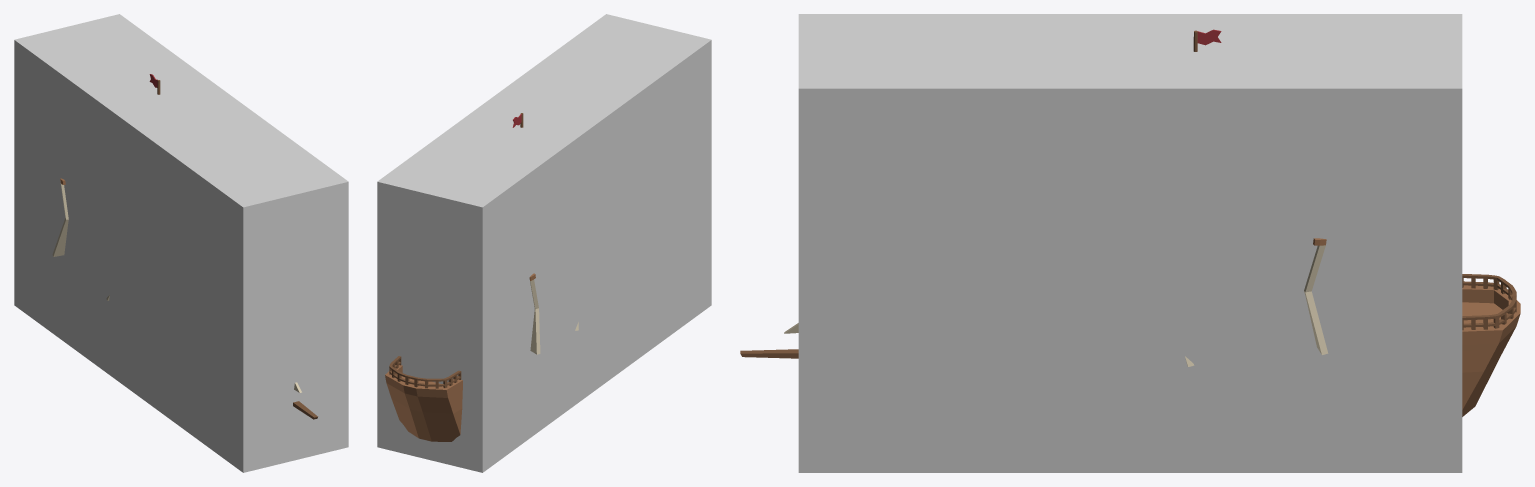
Rendered from cc0_shipwreck.glb.
3 views of the same model, side by side, from view 1: azimuth 30°, elevation 25°; view 2: azimuth 150°, elevation 25°; view 3: azimuth 270°, elevation 25° (orthographic). The views are drawn at different scales.
Visible parts, largest first — view 1: COL_Solid_Shipwreck, BackSail, BigShip; view 2: COL_Solid_Shipwreck, BigShip, BackSail; view 3: COL_Solid_Shipwreck, BigShip, BackSail.
Part boxes in pixels (bbox=[...]): COL_Solid_Shipwreck: bbox=[14, 14, 348, 472]; BackSail: bbox=[52, 178, 68, 256]; BigShip: bbox=[149, 74, 317, 419]; COL_Solid_Shipwreck: bbox=[377, 14, 711, 472]; BigShip: bbox=[385, 113, 523, 441]; BackSail: bbox=[529, 273, 540, 354]; COL_Solid_Shipwreck: bbox=[798, 14, 1462, 472]; BigShip: bbox=[740, 29, 1520, 416]; BackSail: bbox=[1304, 238, 1328, 354].
Size of the model in its own units: 3.59 by 8.15 by 13.5.
1 material, 1 textured.
